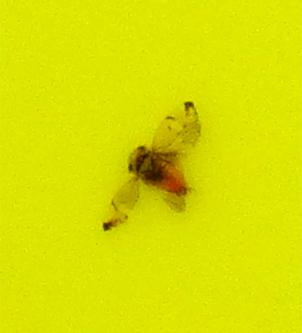Hemiptera: (100, 100, 202, 233)
